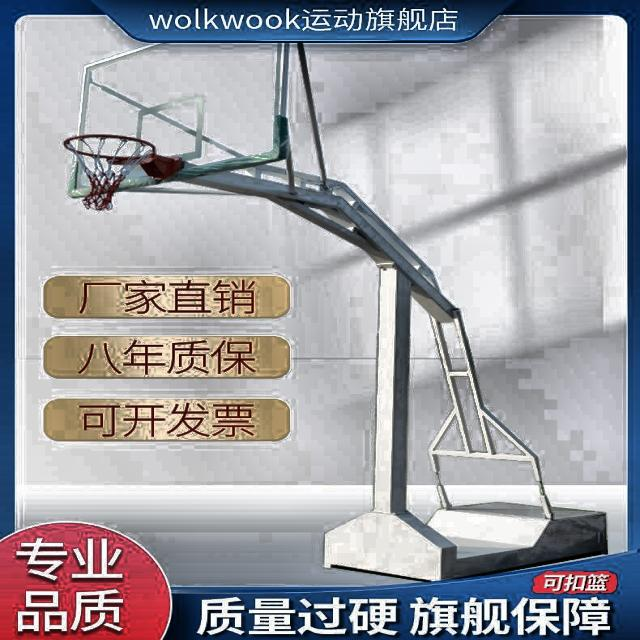rim: (65, 136, 153, 210)
